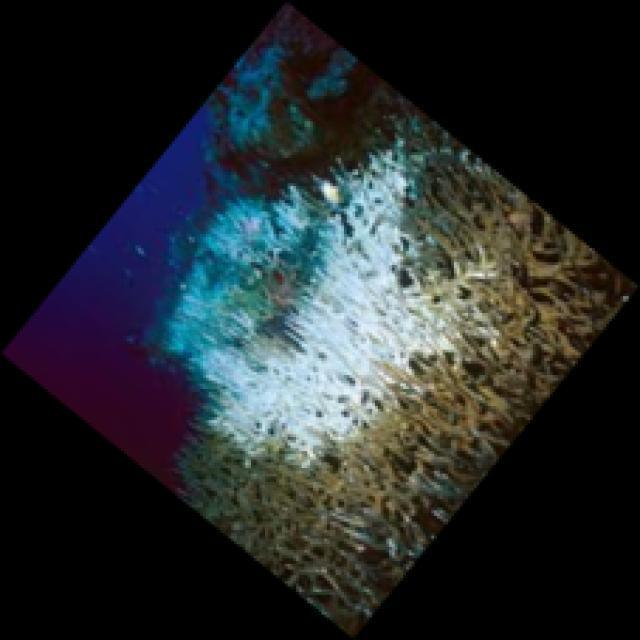Bleached: (157, 148, 486, 457)
